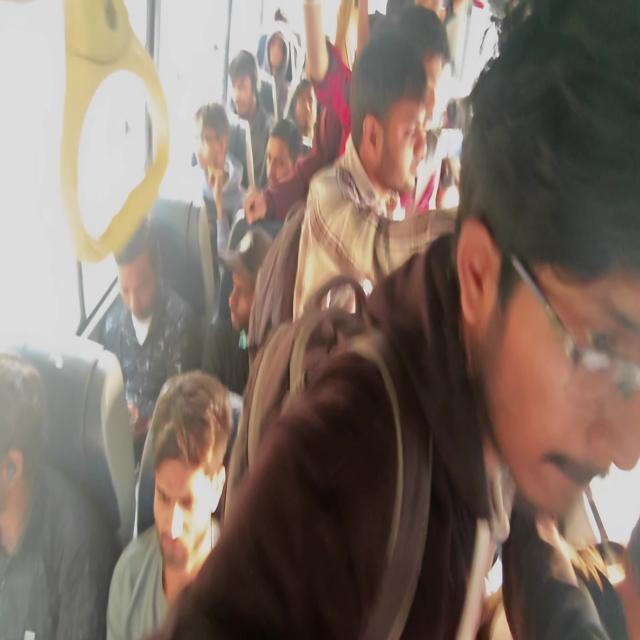person: (421, 34, 640, 521), (102, 350, 260, 640), (0, 342, 85, 608), (218, 220, 301, 408), (104, 204, 180, 346), (333, 59, 397, 189), (240, 114, 307, 230), (191, 97, 241, 231), (215, 40, 269, 126), (409, 3, 447, 108), (279, 68, 320, 150), (264, 18, 298, 102)
